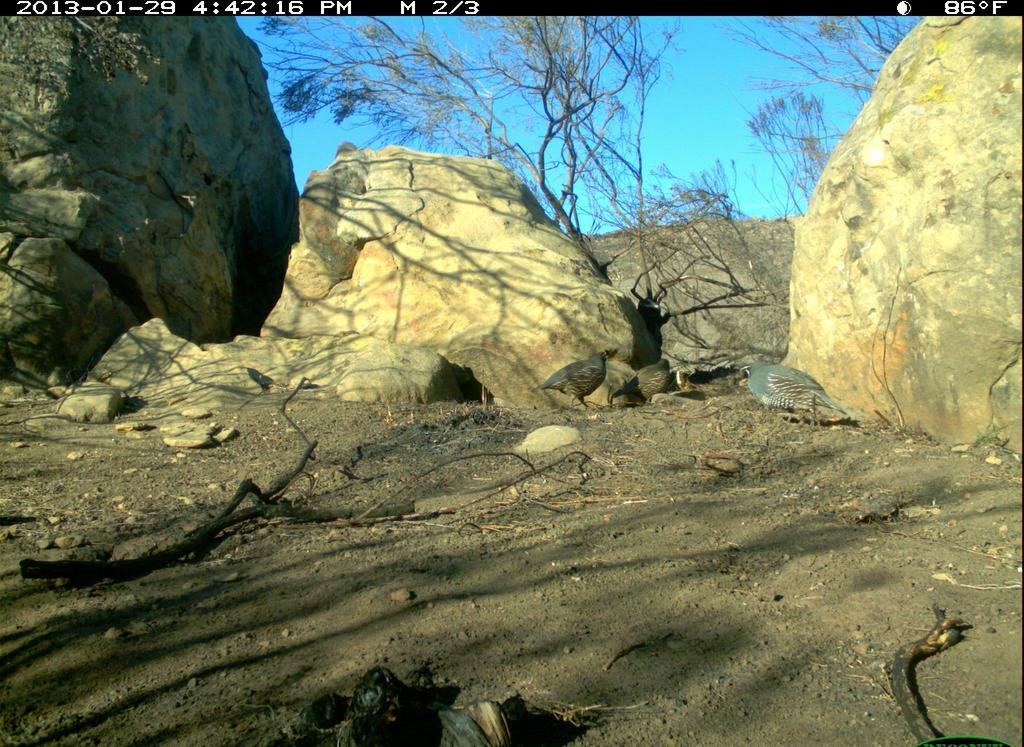bird: (734, 351, 858, 441), (537, 340, 615, 417), (614, 350, 680, 415)
